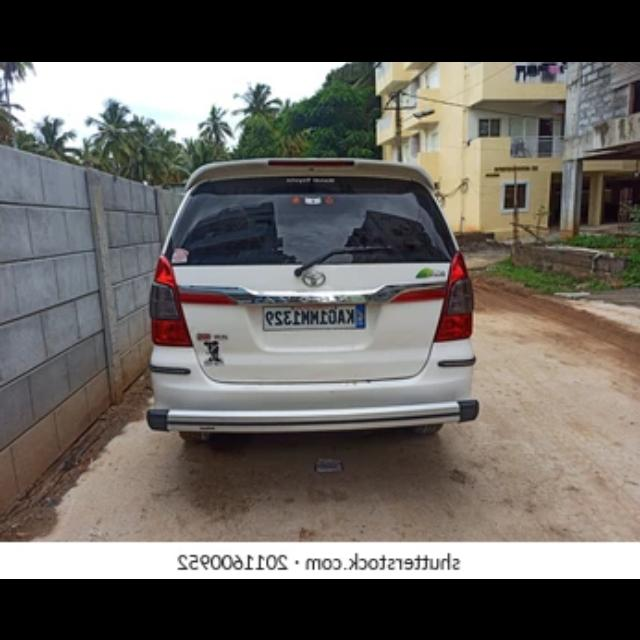number-plate: (260, 294, 364, 333)
vehicles: (128, 152, 465, 470)
